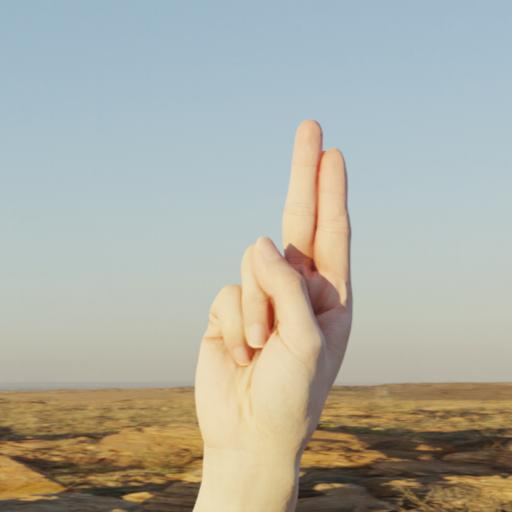U: (177, 115, 378, 460)
